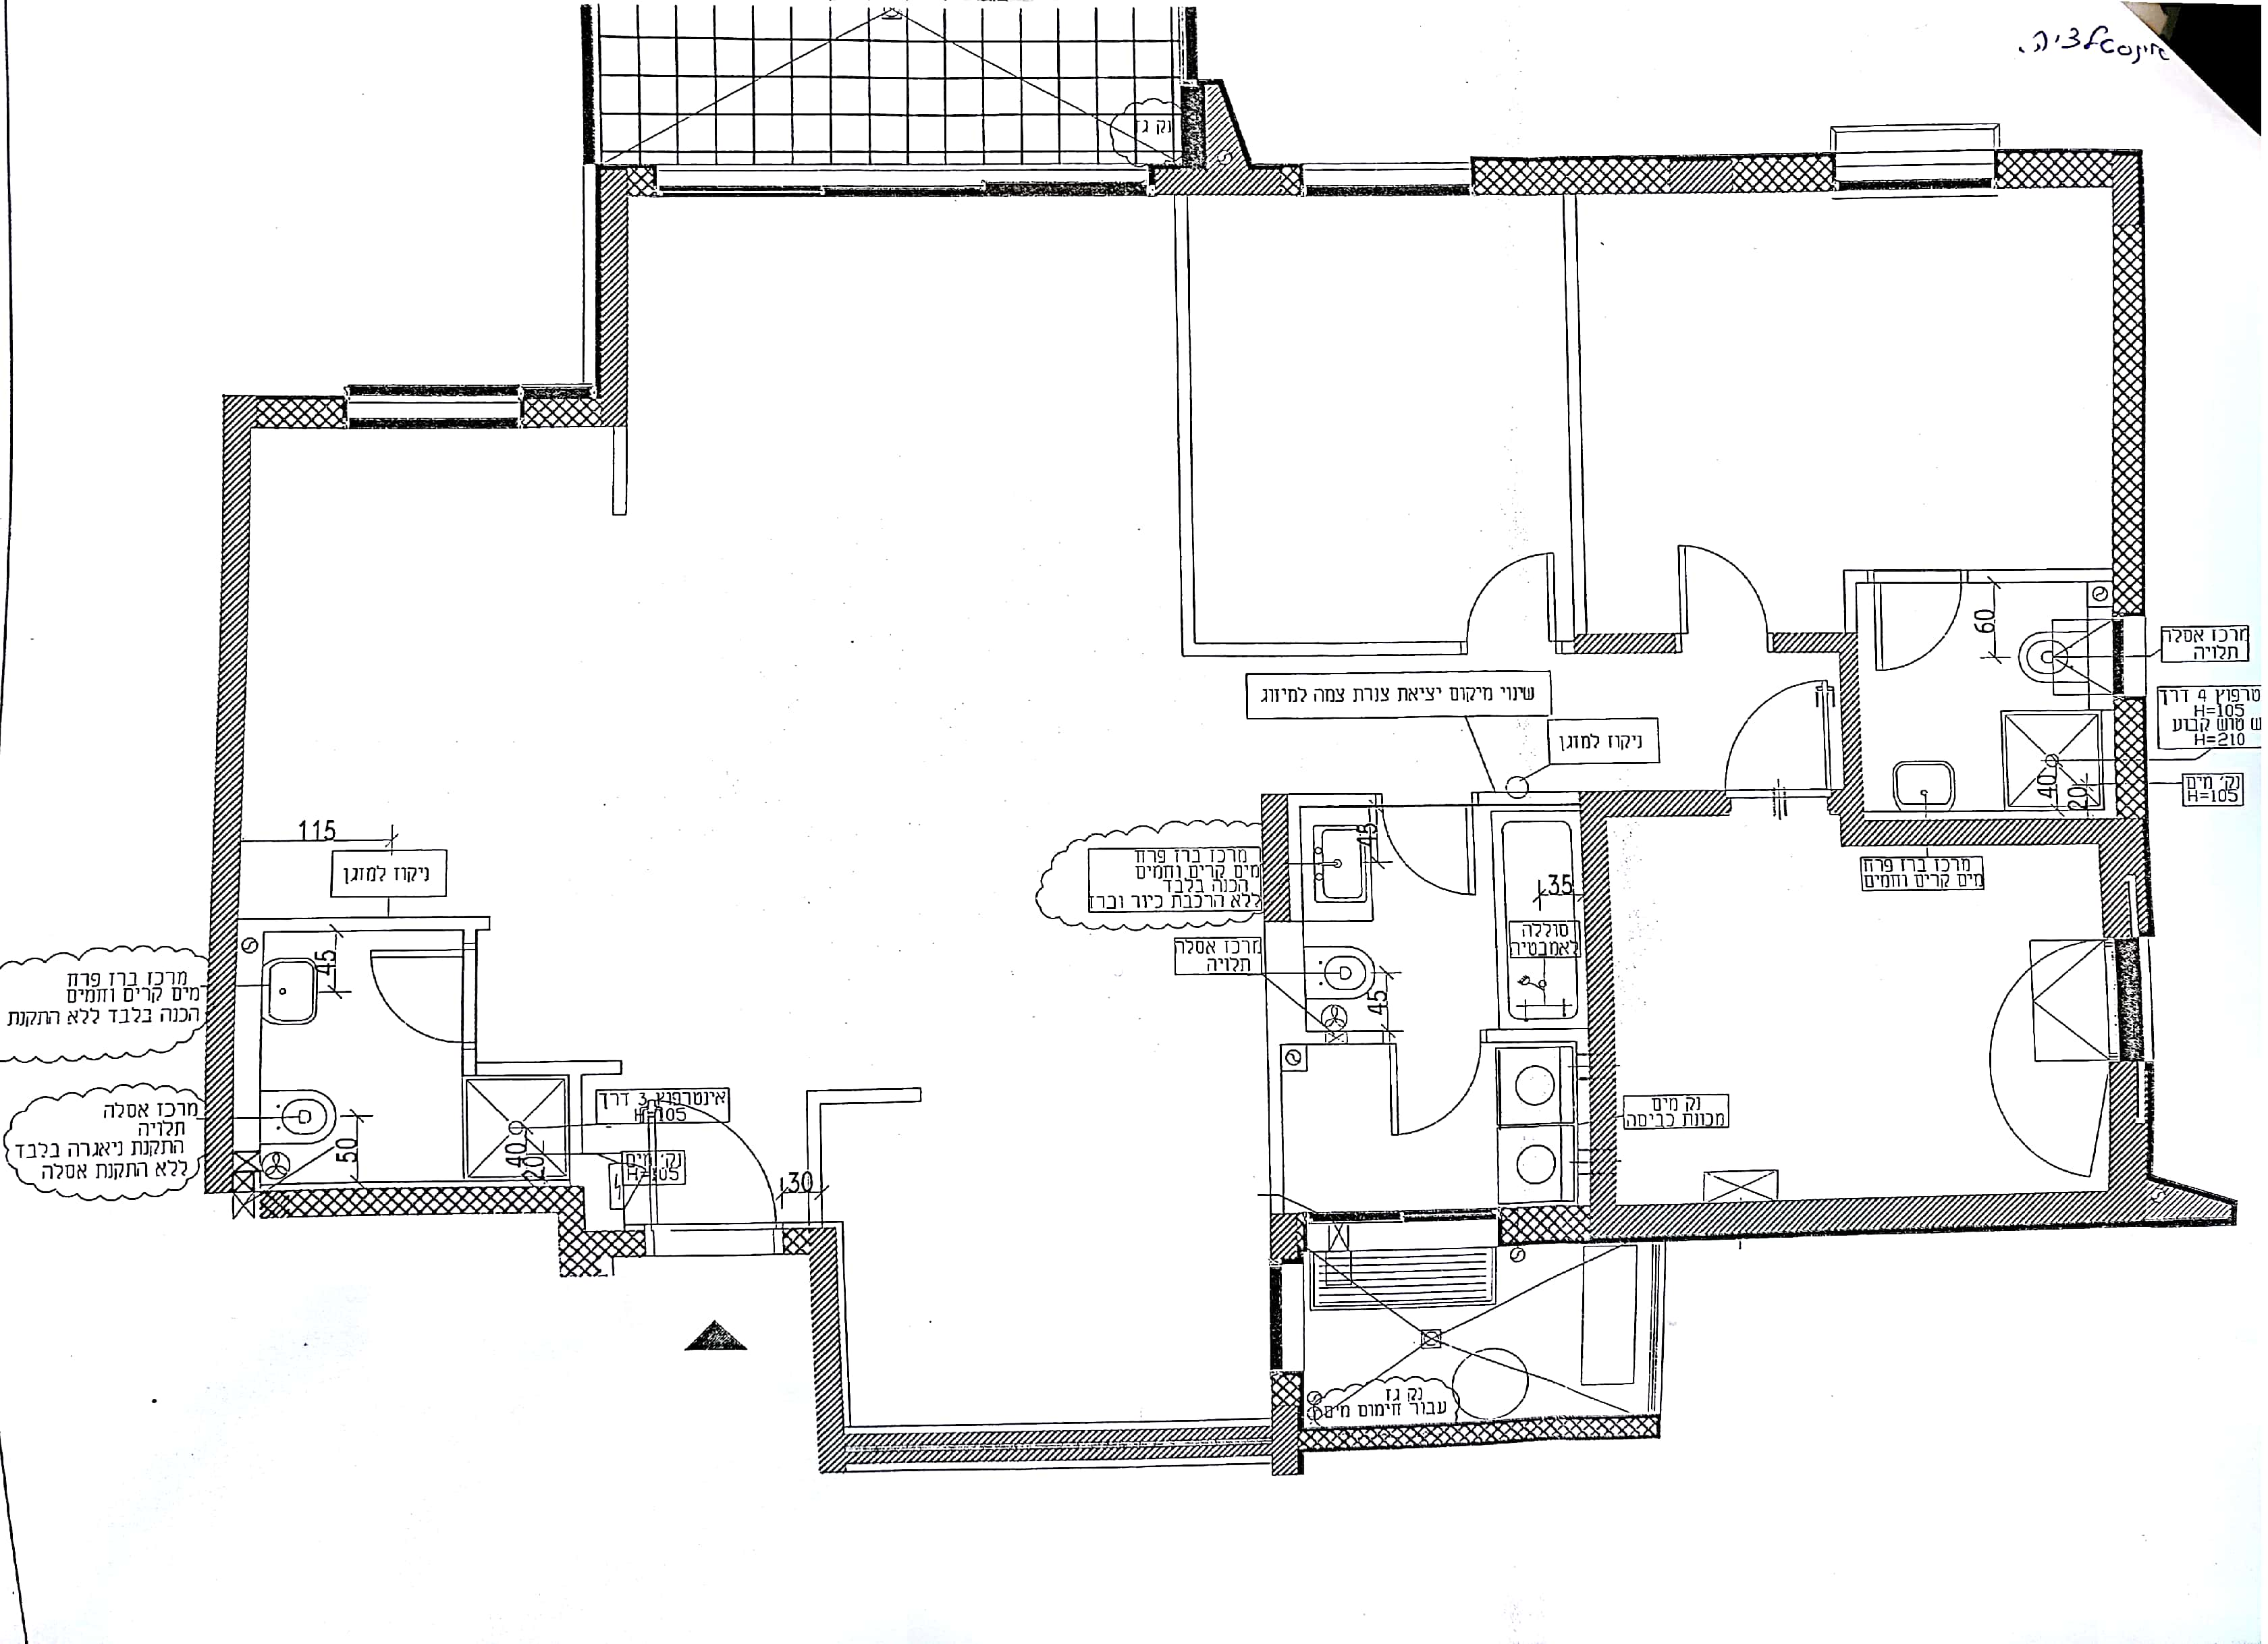door: (1726, 678, 1833, 822), (364, 940, 481, 1047), (1673, 528, 1773, 650), (1865, 567, 1970, 681), (1462, 547, 1564, 660), (1391, 1040, 1484, 1144), (1382, 804, 1481, 898)
wall: (2115, 144, 2145, 618)
